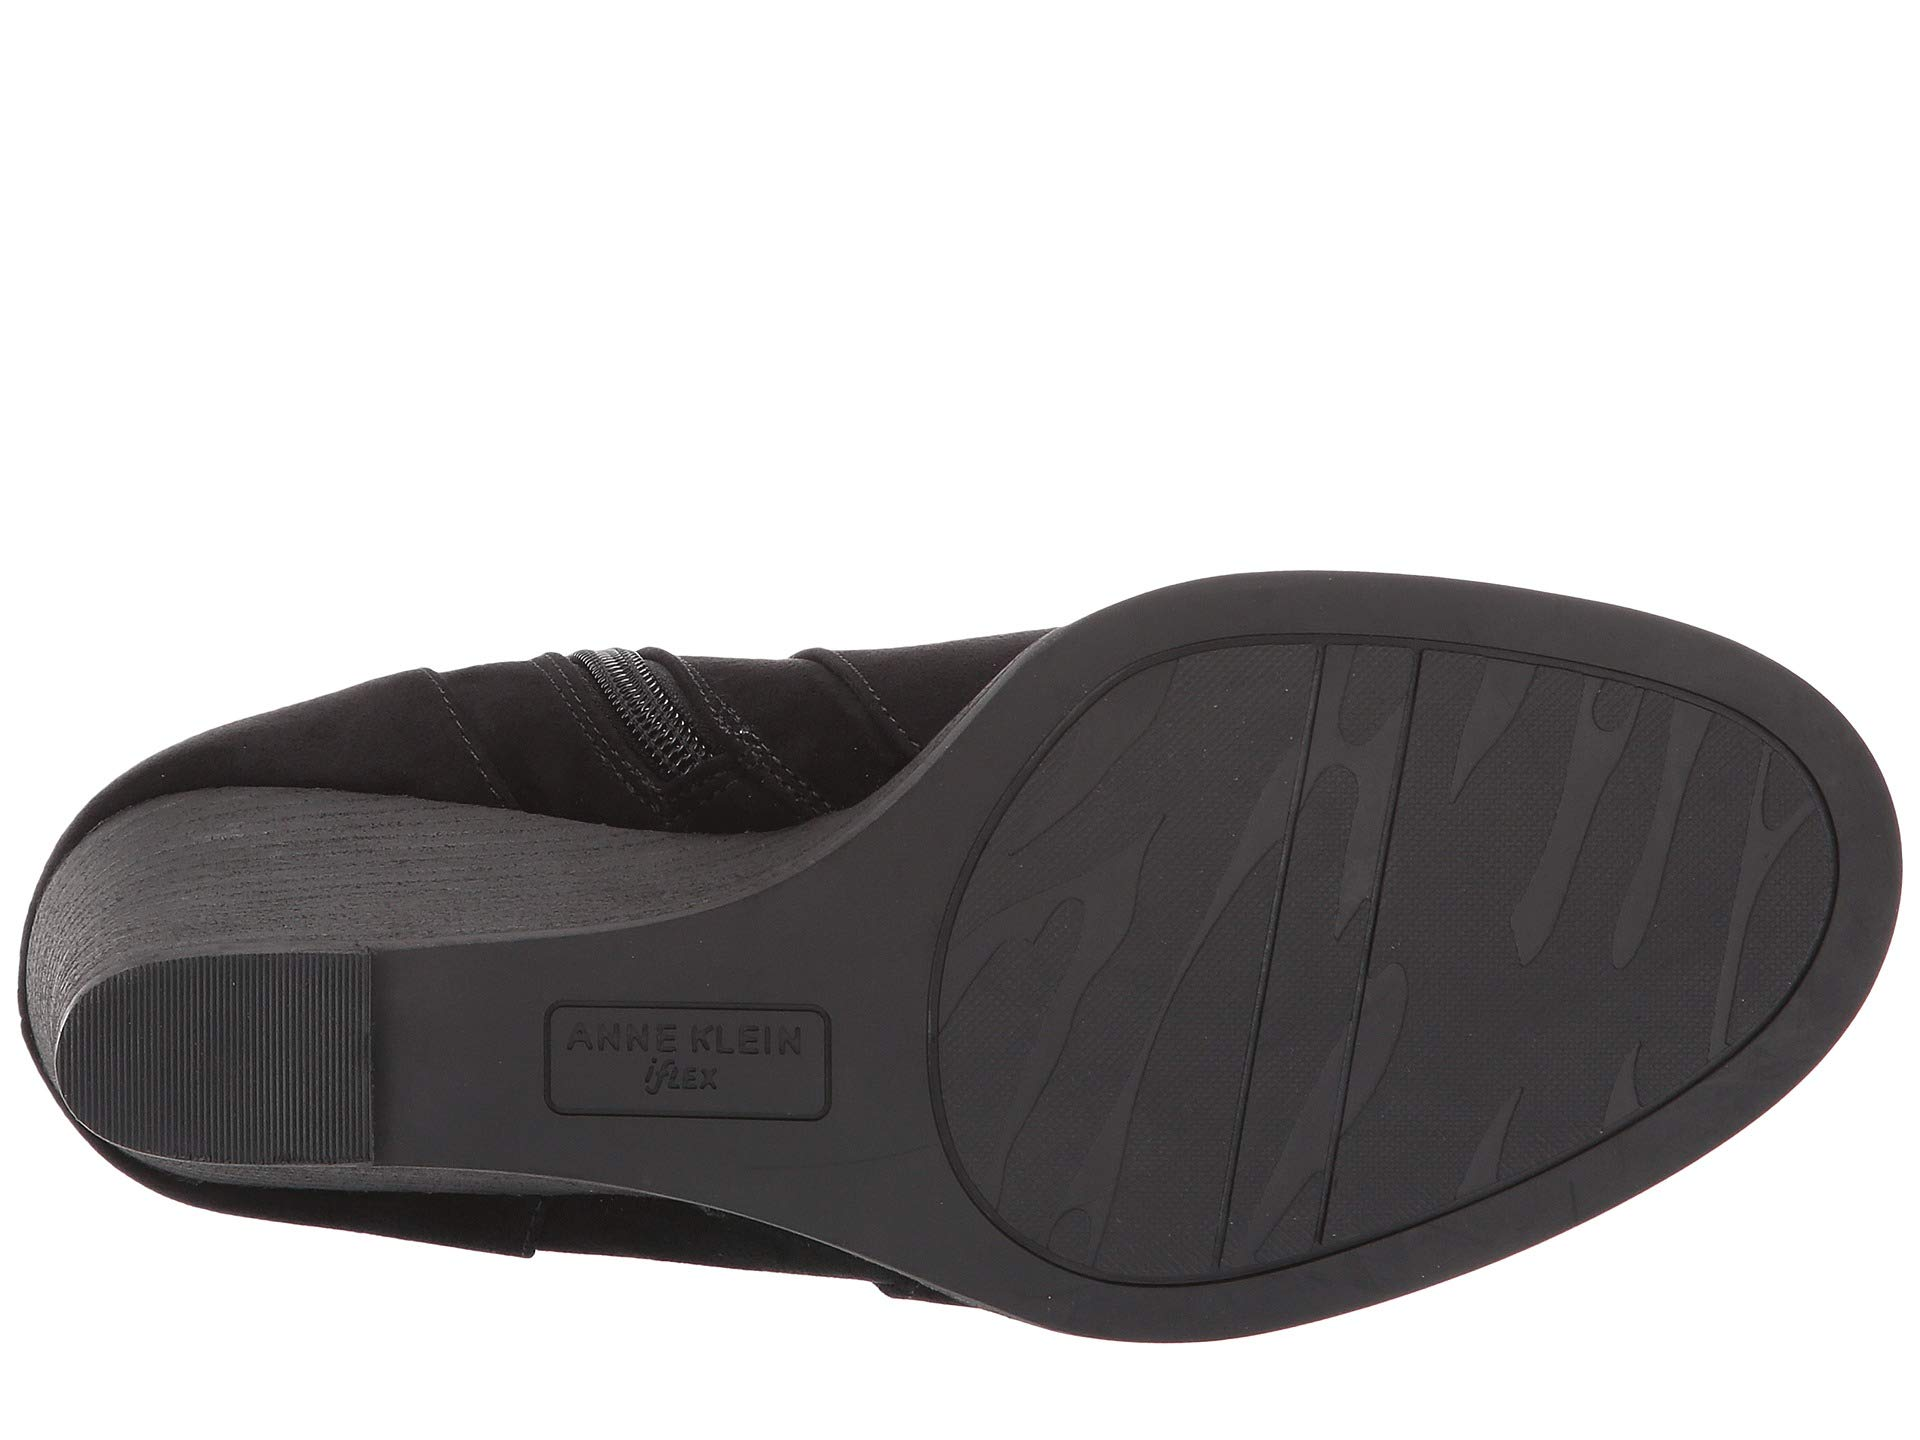quad: (503, 970, 856, 1166)
text: (503, 970, 856, 1166)
